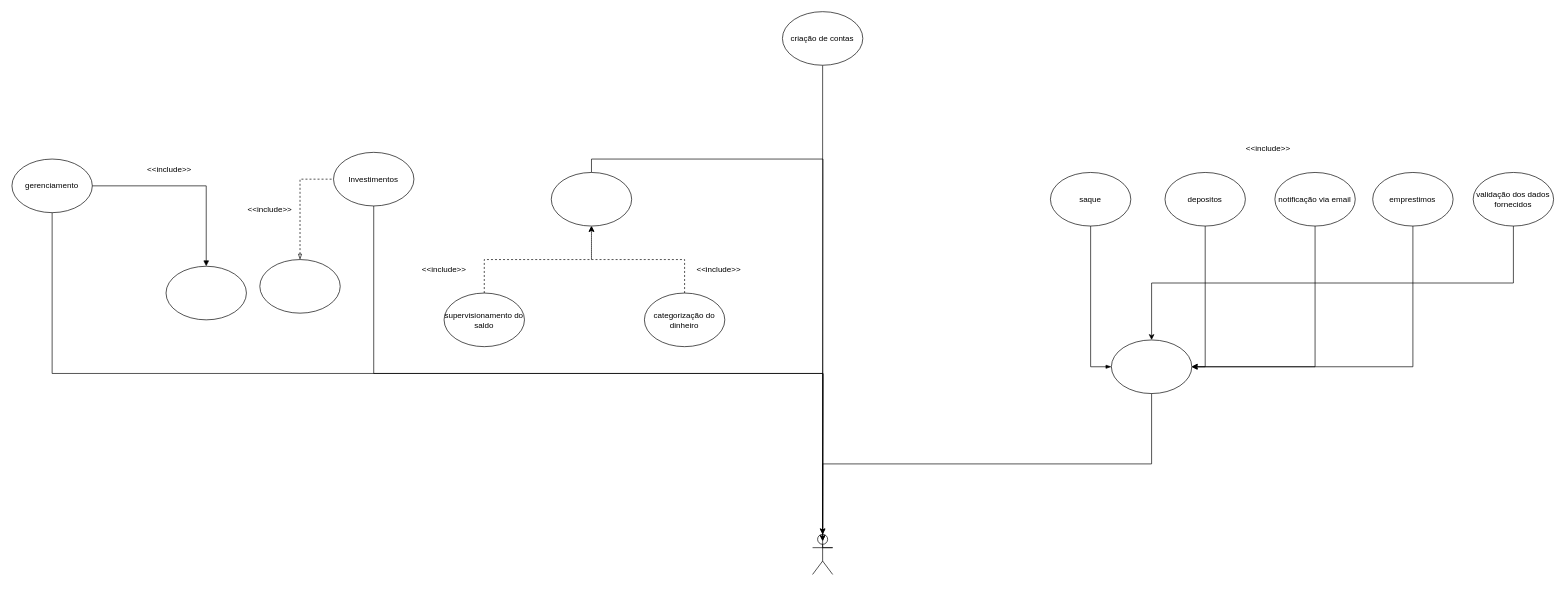
The diagram is 1565 pixels wide and 600 high, and some of its shapes have lost their labels. The shapes that lost their labels are listed below. From the top down, each one's centre as x and y in pixels, then its label:
At pixel 591 199: "extratos".
At pixel 205 293: "gerenciamento de senhas".
At pixel 299 286: "taxas automáticas".
At pixel 1151 366: "transferência".
At pixel 822 554: "user".
